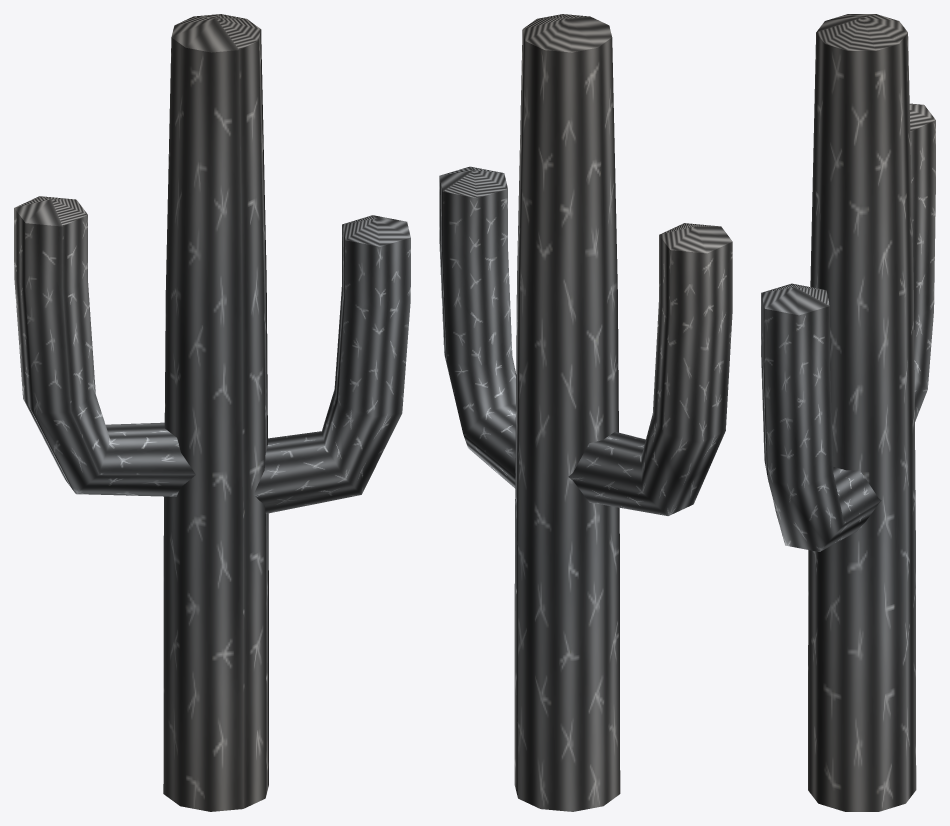
Rendered from cactus_col_l1.gltf.
3 renders of one model, left to right at view 1: azimuth 30°, elevation 25°; view 2: azimuth 150°, elevation 25°; view 3: azimuth 270°, elevation 25°, orthographic.
Visible parts, largest first — view 1: cactus_col_l1; view 2: cactus_col_l1; view 3: cactus_col_l1.
Boxes of the visible parts, left/top/right/bottom form: cactus_col_l1: left=14, top=14, right=410, bottom=811; cactus_col_l1: left=439, top=14, right=732, bottom=811; cactus_col_l1: left=761, top=14, right=935, bottom=811.
Size of the model in its own units: 1.59 by 3.47 by 0.7112.
Materials: 1 (1 with a texture image).
